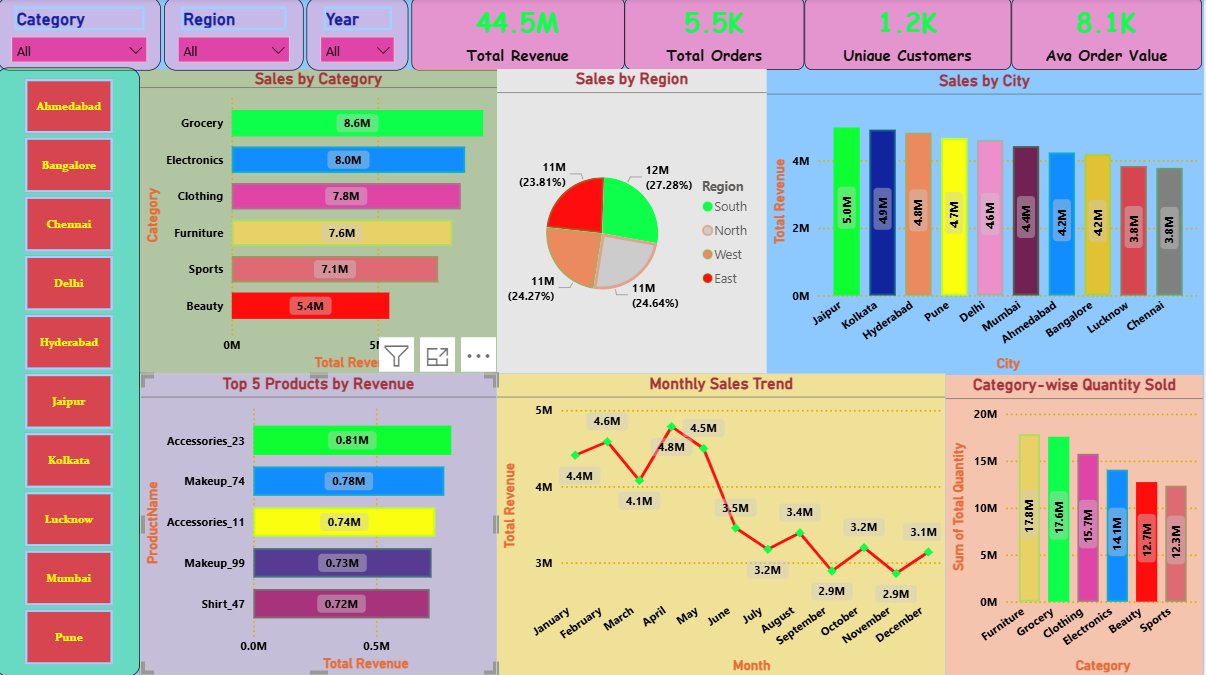

The dashboard page shown, as its layout file describes it:
{"tool":"powerbi","page":{"name":"Dashboard","canvas":[1280,720],"ordinal":0},"visuals":[{"type":"card","fields":{"Values":["Orders.Total Revenue"]},"box":[440.6,0,225.9,77.9],"z":0},{"type":"card","fields":{"Values":["Orders.Total Orders"]},"box":[667.1,0,190.9,77.5],"z":1000},{"type":"card","fields":{"Values":["Orders.Unique Customers"]},"box":[858,0,219.2,77.5],"z":2000},{"type":"card","fields":{"Values":["Orders.Avg Order Value"]},"box":[1077.2,0,202.2,77.5],"z":3000},{"type":"clusteredBarChart","title":"Sales by Category","fields":{"Y":["Orders.Total Revenue"],"Category":["Products.Category"]},"box":[152.7,76.3,378.6,322.9],"z":4000},{"type":"pieChart","title":"Sales by Region","fields":{"Category":["Customers.Region"],"Y":["Orders.Total Revenue"]},"box":[531.3,76.3,286.3,322.9],"z":5000},{"type":"lineChart","title":"Monthly Sales Trend","fields":{"Y":["Orders.Total Revenue"],"Category":["Orders.OrderDate.Variation.Date Hierarchy.Month"]},"box":[531.3,399.2,475.6,321.3],"z":6000},{"type":"barChart","title":"Top 5 Products by Revenue","fields":{"Category":["Products.ProductName"],"Y":["Orders.Total Revenue"]},"box":[152.7,399.2,378.6,319.7],"z":7000},{"type":"columnChart","title":"Sales by City","fields":{"Category":["Customers.City"],"Y":["Orders.Total Revenue"]},"box":[817.6,77.9,461.3,322.9],"z":8000},{"type":"columnChart","title":"Category-wise Quantity Sold","fields":{"Category":["Products.Category"],"Y":["Sum(Orders.Total Quantity)"]},"box":[1006.9,400.8,273.6,319.7],"z":9000},{"type":"slicer","fields":{"Values":["Orders.OrderDate.Variation.Date Hierarchy.Year"]},"box":[329.3,0,108.2,77.9],"z":10000},{"type":"slicer","fields":{"Values":["Customers.Region"]},"box":[178.1,0,147.9,77.9],"z":11000},{"type":"slicer","fields":{"Values":["Products.Category"]},"box":[1.6,0,173.4,77.9],"z":12000},{"type":"slicer","fields":{"Values":["Customers.City"]},"box":[0,74.8,152.7,645.8],"z":13000}]}

Visuals, with their boxes in screenshot pixels (x1, y1, x2, y2), scaled from the page's 1280x720 canvas onto the 1206x675 screenshot:
card - Orders.Total Revenue: (415,0,628,73)
card - Orders.Total Orders: (629,0,808,73)
card - Orders.Unique Customers: (808,0,1015,73)
card - Orders.Avg Order Value: (1015,0,1205,73)
"Sales by Category" clusteredBarChart: (144,72,501,374)
"Sales by Region" pieChart: (501,72,770,374)
"Monthly Sales Trend" lineChart: (501,374,949,674)
"Top 5 Products by Revenue" barChart: (144,374,501,674)
"Sales by City" columnChart: (770,73,1205,376)
"Category-wise Quantity Sold" columnChart: (949,376,1205,674)
slicer - Orders.OrderDate.Variation.Date Hierarchy.Year: (310,0,412,73)
slicer - Customers.Region: (168,0,307,73)
slicer - Products.Category: (2,0,165,73)
slicer - Customers.City: (0,70,144,674)
